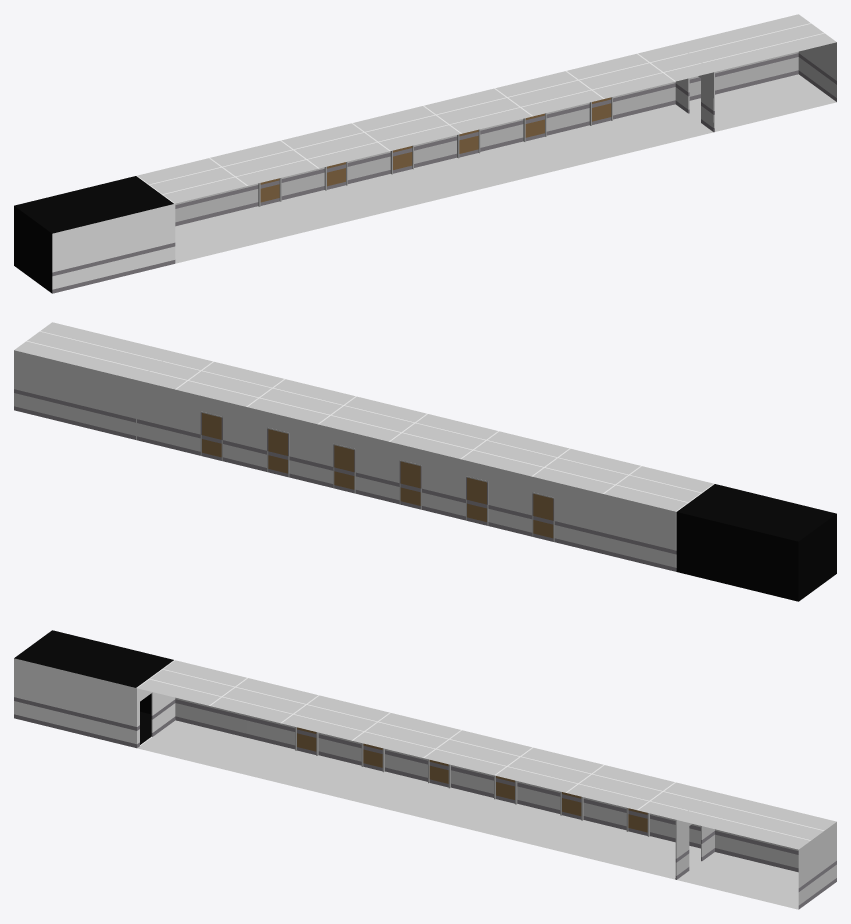
The model's file is clinicPortal.fbx.
The picture shows the model from 3 angles, top to bottom: view 1: azimuth 30°, elevation 25°; view 2: azimuth 150°, elevation 25°; view 3: azimuth 330°, elevation 25°; orthographic projection.
Parts seen in each view (by area): view 1: clinic; view 2: clinic; view 3: clinic.
Part boxes in pixels (x1,y1,x2,y2): clinic: (14, 14, 836, 293); clinic: (14, 322, 836, 601); clinic: (14, 630, 836, 909).
Bounding box in the file's own units: 9468 × 693 × 803.
